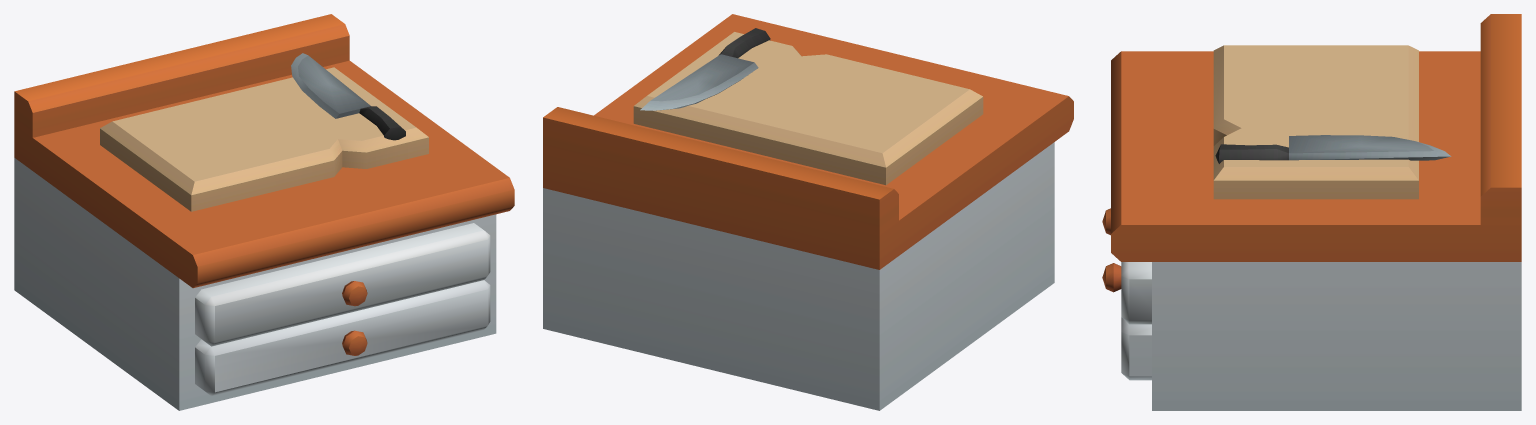
The model's file is cutting_counter.glb.
The picture shows the model from 3 angles, left to right: view 1: azimuth 30°, elevation 25°; view 2: azimuth 150°, elevation 25°; view 3: azimuth 270°, elevation 25°; orthographic projection. The views are drawn at different scales.
Visible parts, largest first — view 1: kitchencounter_straight_A_backsplash, cuttingboard, knife; view 2: kitchencounter_straight_A_backsplash, cuttingboard, knife; view 3: kitchencounter_straight_A_backsplash, cuttingboard, knife.
Part boxes in pixels (box(x1,y1,x2,y2)): kitchencounter_straight_A_backsplash: box(14, 14, 514, 410); cuttingboard: box(100, 67, 428, 211); knife: box(291, 53, 405, 140); kitchencounter_straight_A_backsplash: box(543, 14, 1073, 410); cuttingboard: box(633, 32, 983, 185); knife: box(640, 28, 770, 110); kitchencounter_straight_A_backsplash: box(1102, 14, 1521, 410); cuttingboard: box(1213, 45, 1418, 199); knife: box(1215, 135, 1451, 163).
Bounding box in the file's own units: 2 × 1.22 × 2.04.
1 material, 1 textured.
